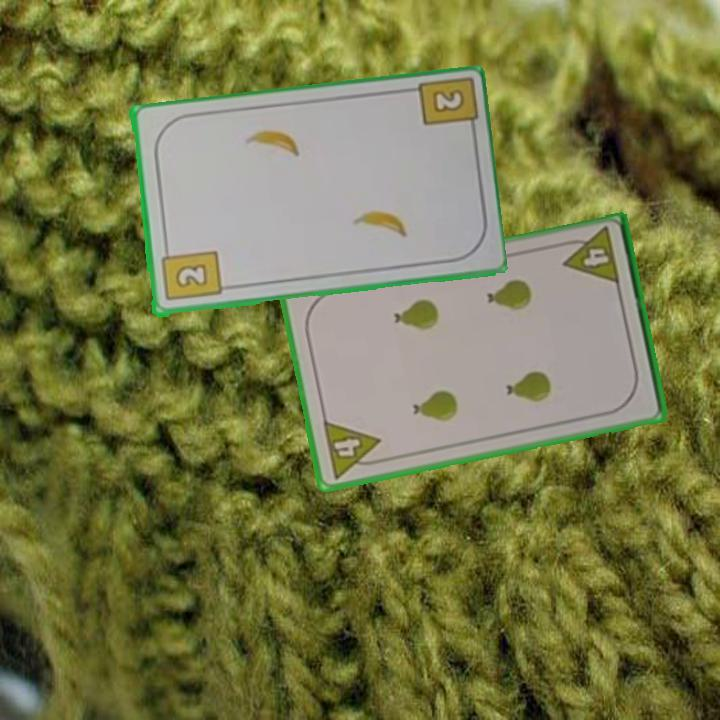2b: (157, 243, 223, 304), (428, 85, 467, 116)
4p: (319, 417, 387, 482), (557, 224, 623, 288)
